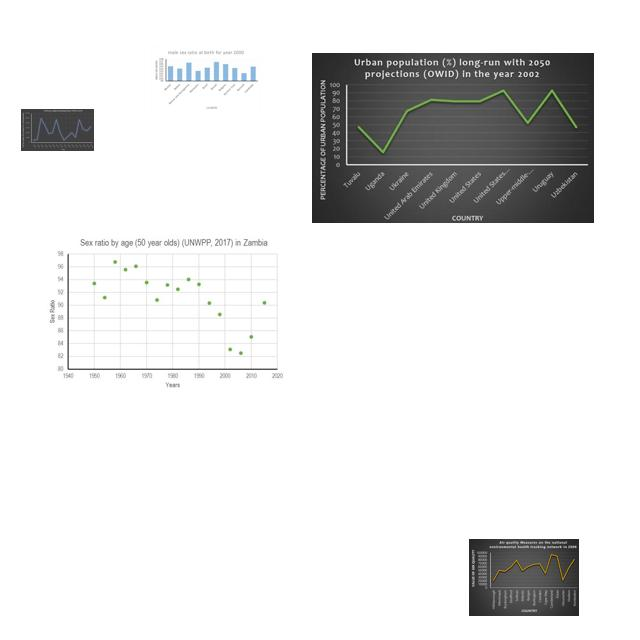Graph: (312, 53, 594, 223), (43, 234, 286, 389), (469, 539, 579, 616), (151, 47, 261, 113), (21, 109, 94, 151)
